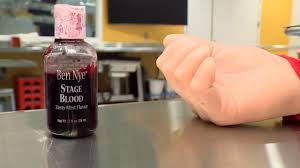bottle: (36, 1, 108, 144)
